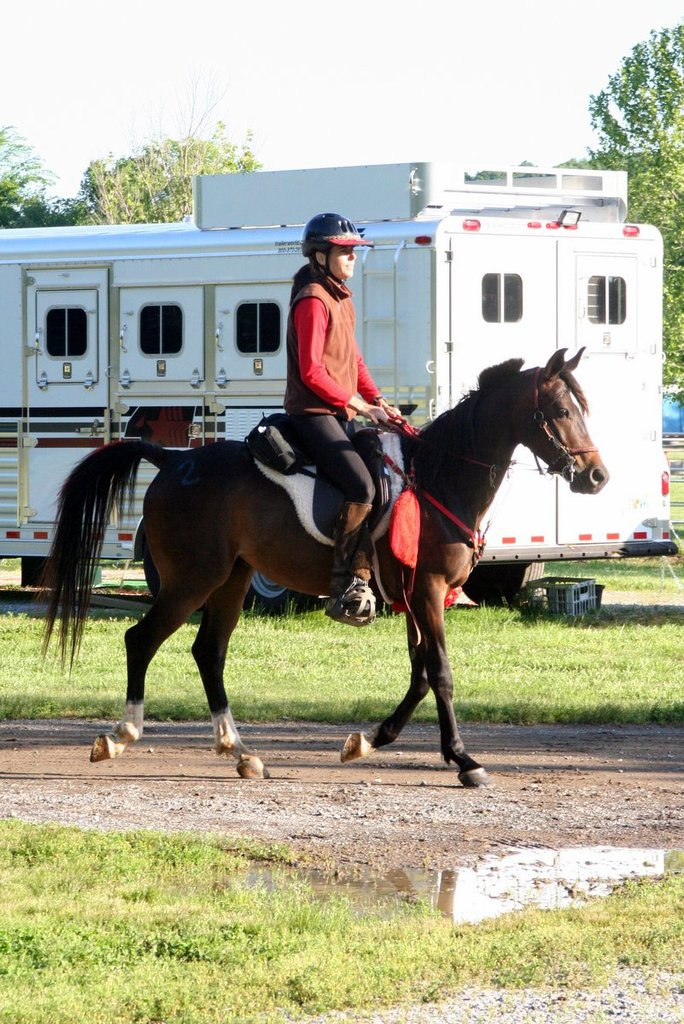Person: (283, 213, 401, 611)
